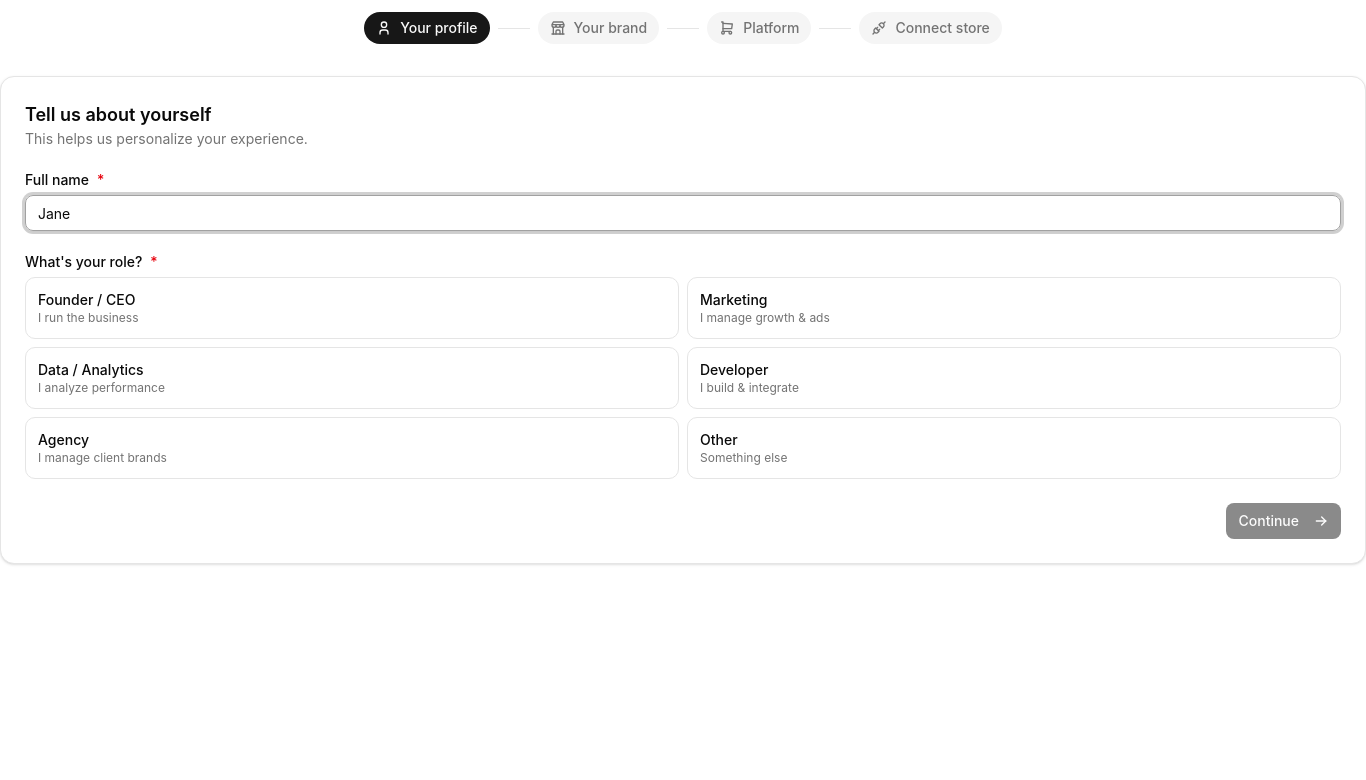
it: OnboardingForm — validation (negative) › blocks advancing past profile when role is not selected
Expected: the button with test id "btn-continue" is disabled, [1226,503,1341,539]
Expected: the element with test id "step-profile" is shown, [25,101,1341,479]
Note: Select a role → button should become enabled
Click the radio button with test id "role-marketing". click: (734, 300)
box: [687,277,1341,339]
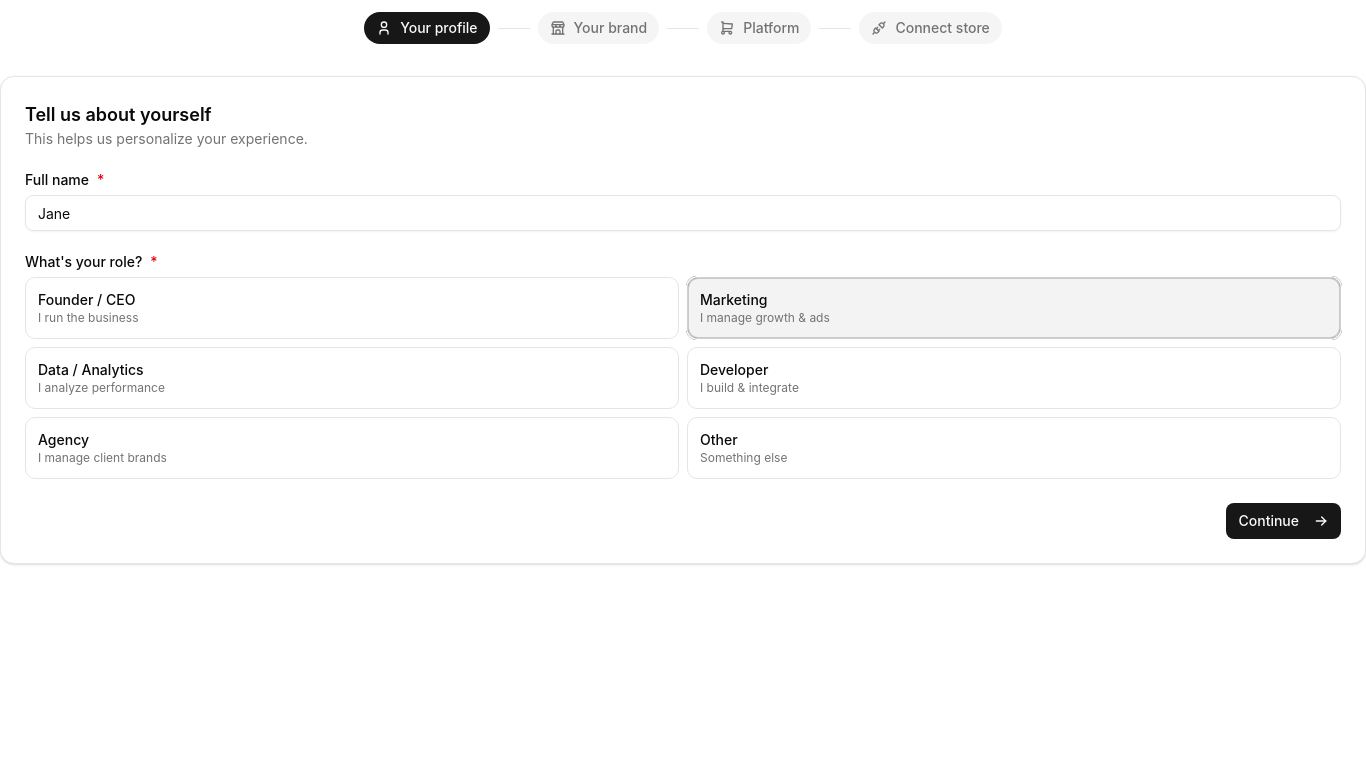
Expected: the button with test id "btn-continue" is enabled, [1226,503,1341,539]
